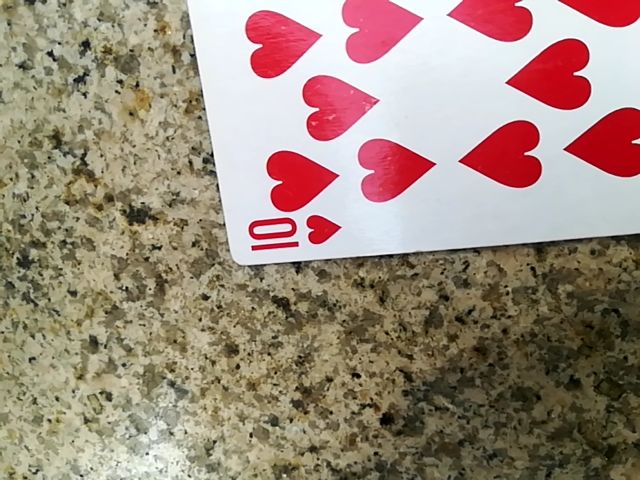hx 10: (178, 0, 640, 268)
